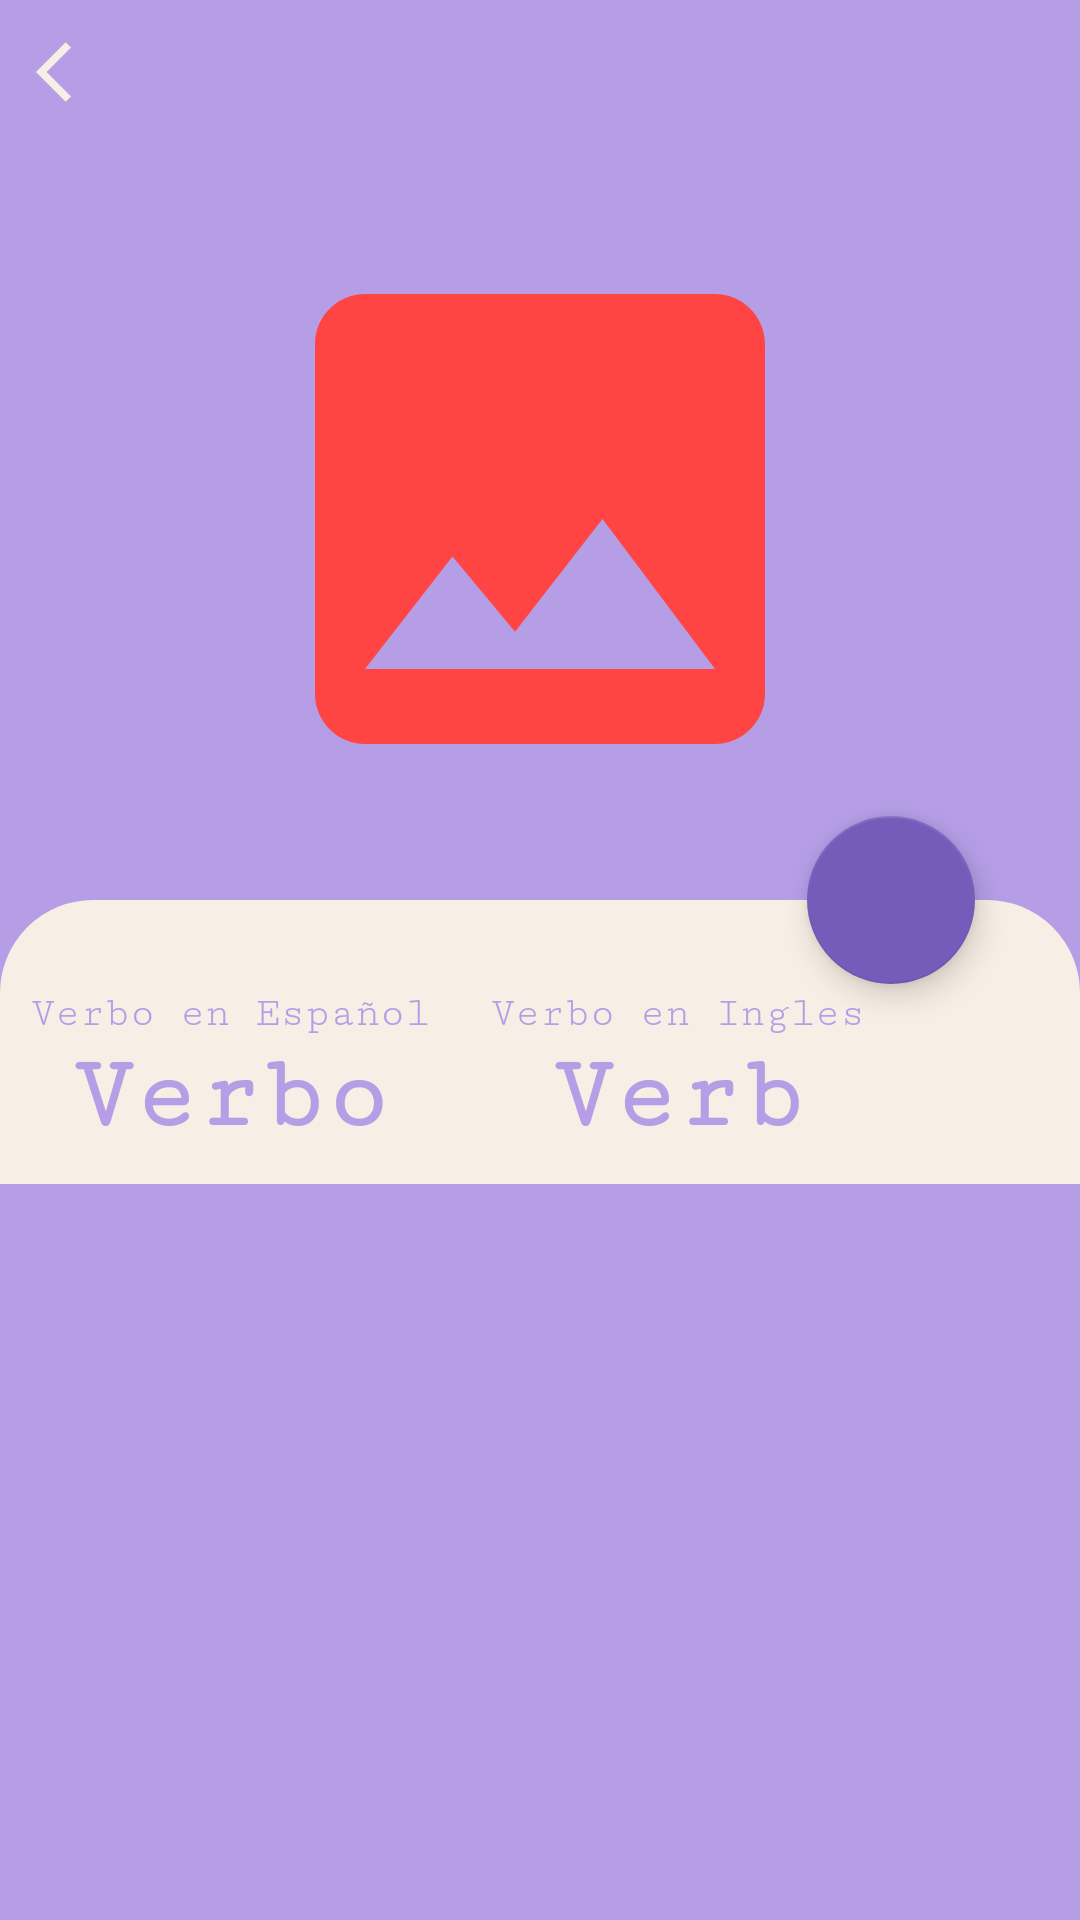

Screen size 1080px×1920px. Icon name, then its center in pixels as (x=x, y=y):
back: (x=53, y=72)
